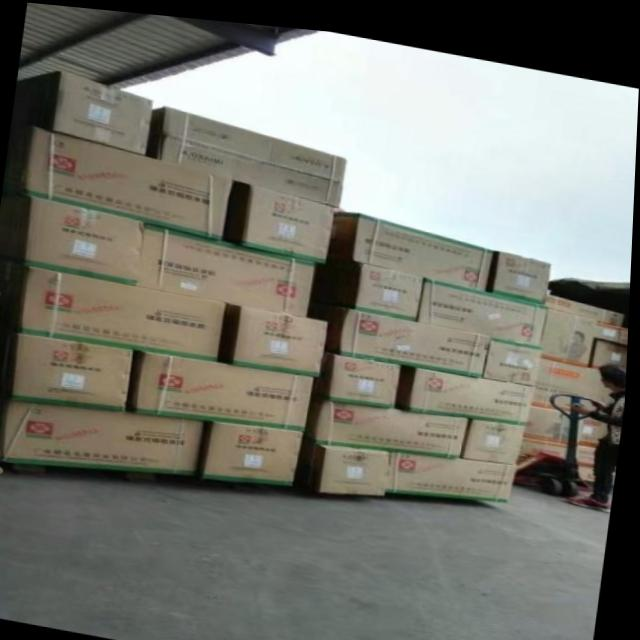box: (4, 122, 236, 235), (0, 261, 228, 354), (149, 102, 348, 200), (133, 218, 324, 309), (130, 346, 322, 425), (5, 397, 210, 467), (1, 188, 144, 283), (306, 295, 493, 366), (326, 204, 499, 277), (0, 321, 139, 408), (15, 71, 152, 151), (305, 388, 476, 446), (224, 175, 336, 254), (421, 268, 549, 336), (225, 299, 329, 370), (410, 356, 539, 411), (383, 440, 520, 491), (206, 415, 308, 480), (312, 255, 427, 310), (298, 431, 393, 488), (533, 345, 629, 401), (548, 297, 631, 357), (523, 426, 619, 476), (324, 342, 407, 399), (529, 391, 625, 437), (460, 407, 533, 453), (488, 241, 553, 291), (485, 324, 547, 374), (546, 283, 631, 314)
